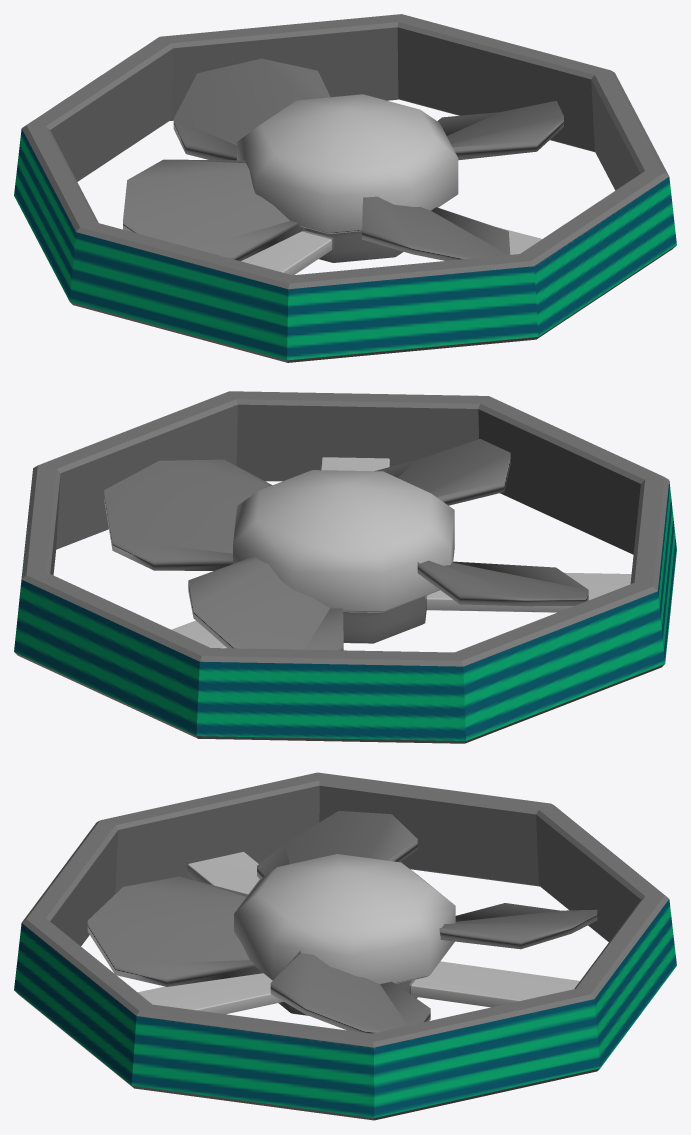
The model's file is SM_Ventilator_SM_Ventilator.fbx.
The picture shows the model from 3 angles, top to bottom: view 1: azimuth 30°, elevation 25°; view 2: azimuth 150°, elevation 25°; view 3: azimuth 270°, elevation 25°; orthographic projection. The views are drawn at different scales.
Parts seen in each view (by area): view 1: SM_Ventilator_SM_Ventilator; view 2: SM_Ventilator_SM_Ventilator; view 3: SM_Ventilator_SM_Ventilator.
Boxes of the visible parts, x1,y1,x2,y2 form: SM_Ventilator_SM_Ventilator: (14, 14, 676, 362); SM_Ventilator_SM_Ventilator: (14, 391, 676, 743); SM_Ventilator_SM_Ventilator: (14, 772, 676, 1120).
Size of the model in its own units: 109 by 109 by 21.12.
Materials: 1 (1 with a texture image).
